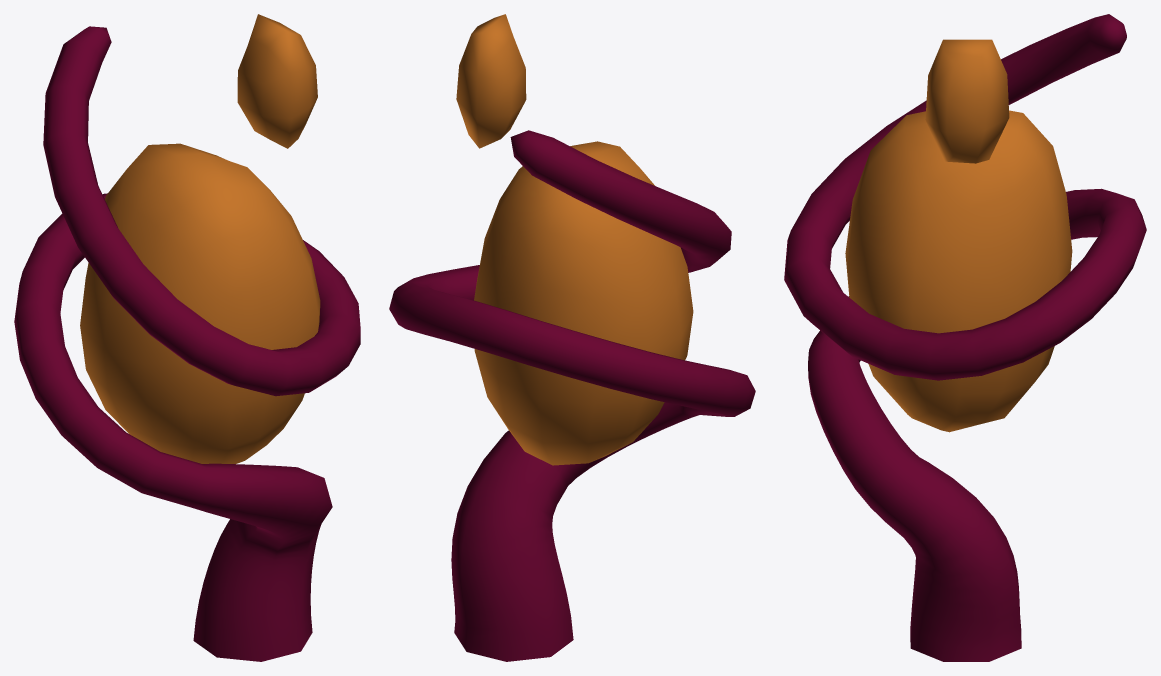
Rendered from Tree Lava.glb.
3 views of the same model, side by side, from view 1: azimuth 30°, elevation 25°; view 2: azimuth 150°, elevation 25°; view 3: azimuth 270°, elevation 25° (orthographic).
Visible parts, largest first — view 1: Tree_Lava_3; view 2: Tree_Lava_3; view 3: Tree_Lava_3.
Part boxes in pixels (bbox=[...]): Tree_Lava_3: bbox=[14, 14, 360, 661]; Tree_Lava_3: bbox=[389, 14, 755, 661]; Tree_Lava_3: bbox=[784, 14, 1146, 661].
Size of the model in its own units: 1.12 by 2.09 by 1.13.
Materials: 1 (1 with a texture image).
